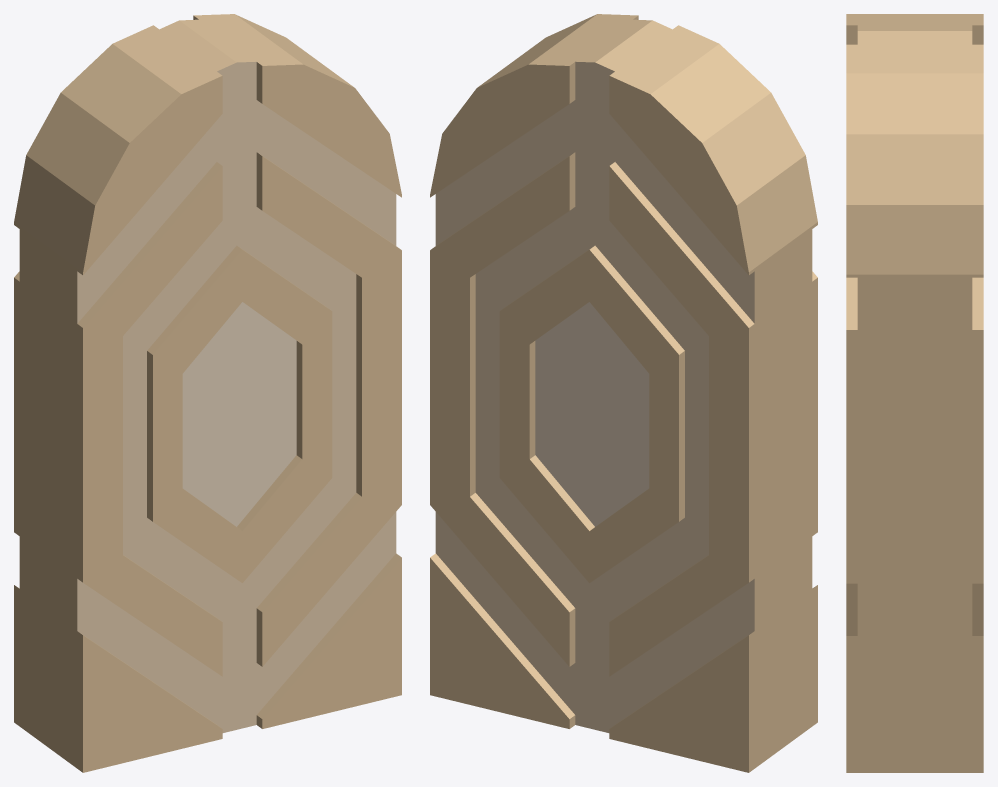
3 views of the same model, side by side, from view 1: azimuth 30°, elevation 25°; view 2: azimuth 150°, elevation 25°; view 3: azimuth 270°, elevation 25° (orthographic).
Parts seen in each view (by area): view 1: object2.008; view 2: object2.008; view 3: object2.008.
Part boxes in pixels (x1,y1,x2,y2): object2.008: (14,14,401,772); object2.008: (430,14,817,772); object2.008: (846,14,983,772).
Bounding box in the file's own units: 0.8 × 1.6 × 0.3.
